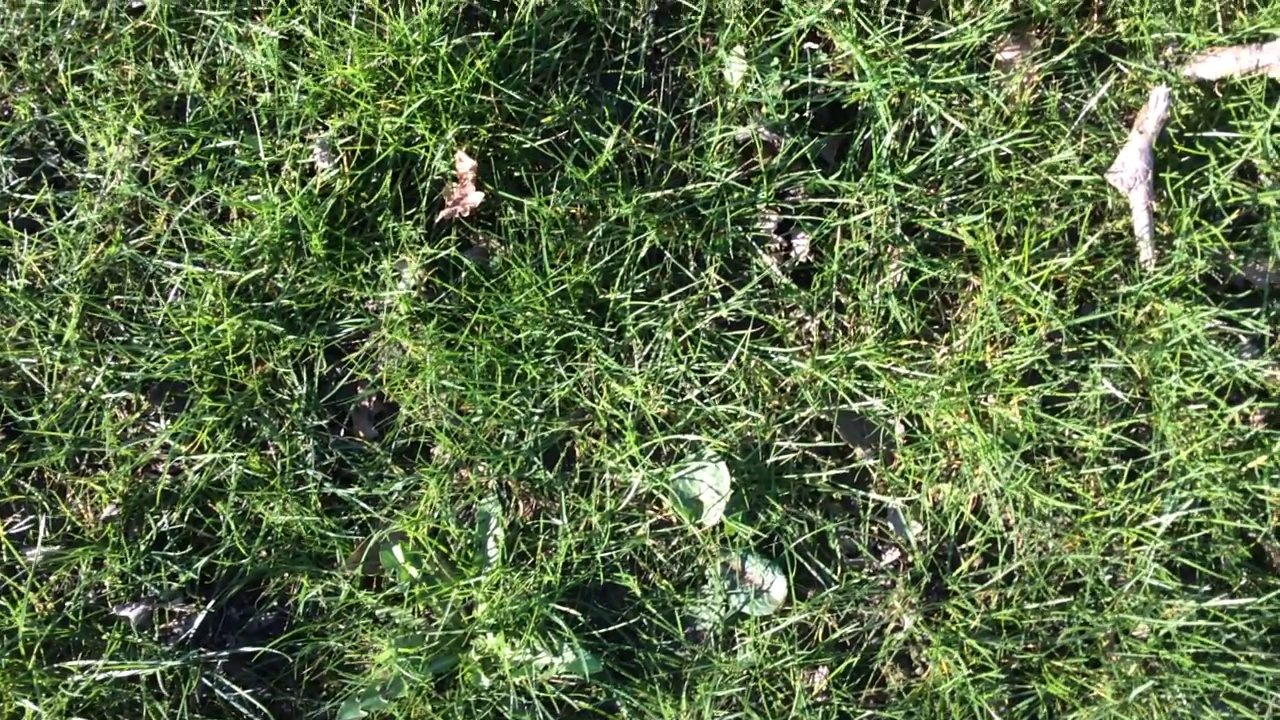rumex: (706, 557, 790, 616), (677, 449, 731, 527)
